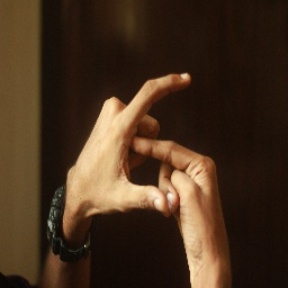E: (104, 63, 220, 221)
